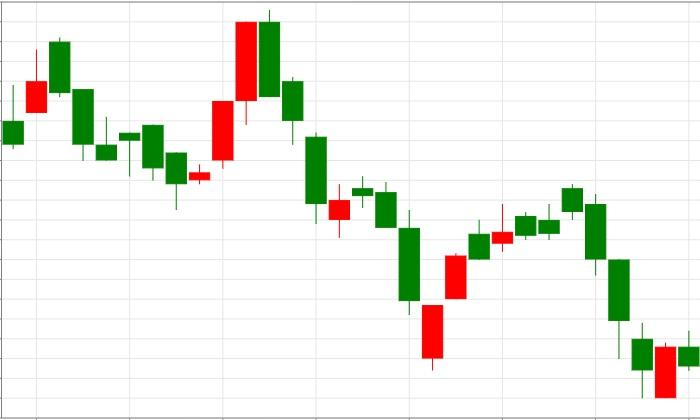three_black_crows_fall: (422, 184, 653, 399)
three_white_soldiers_rise: (50, 21, 256, 210)
